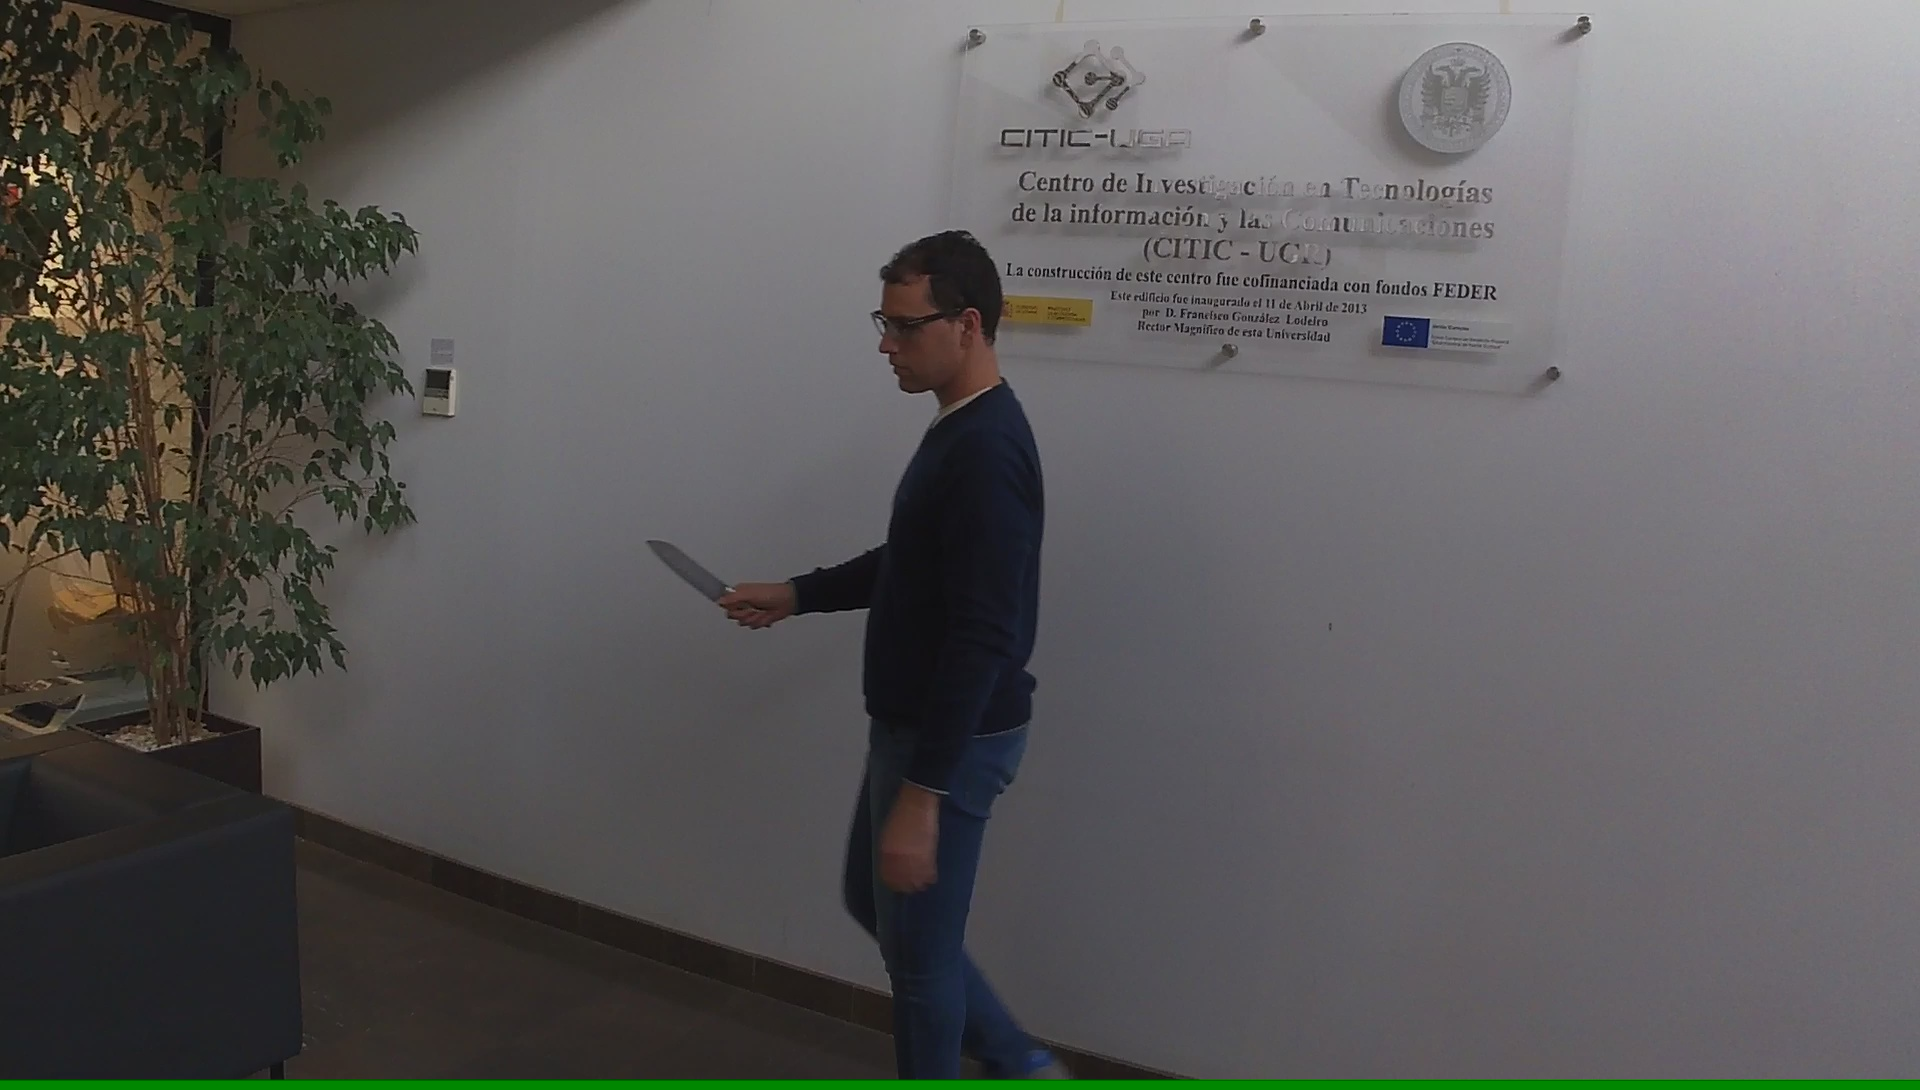knife: (640, 531, 767, 631)
